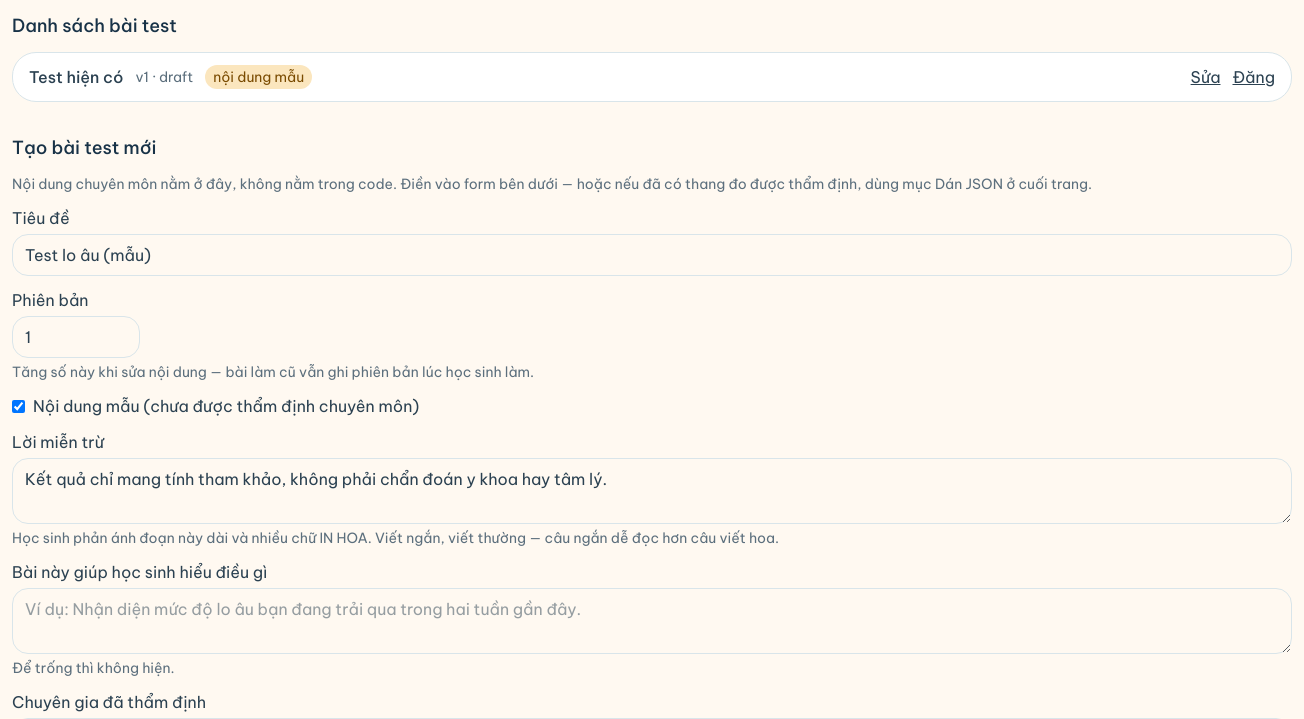
Test case: TestEditor › bấm Sửa nạp đúng nội dung bài test hiện có vào form
The image size is (1304, 719).
Check: the text "Test hiện có" is shown, box [29, 65, 123, 89]
Click the button "Sửa". click: click(1206, 77)
box: [1191, 65, 1220, 89]
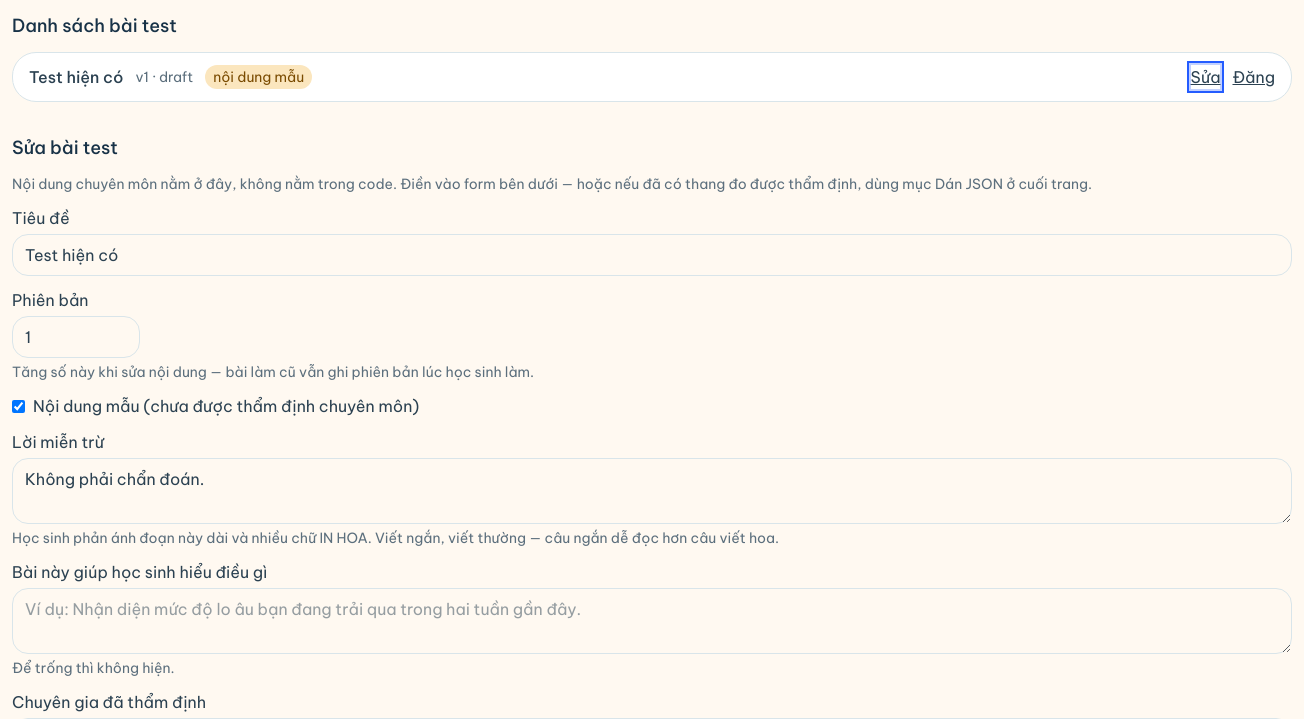
Check: the field labelled "Tiêu đề" holds "Test hiện có", box [12, 234, 1292, 276]
Check: the heading "Sửa bài test" is shown, box [12, 136, 118, 159]
